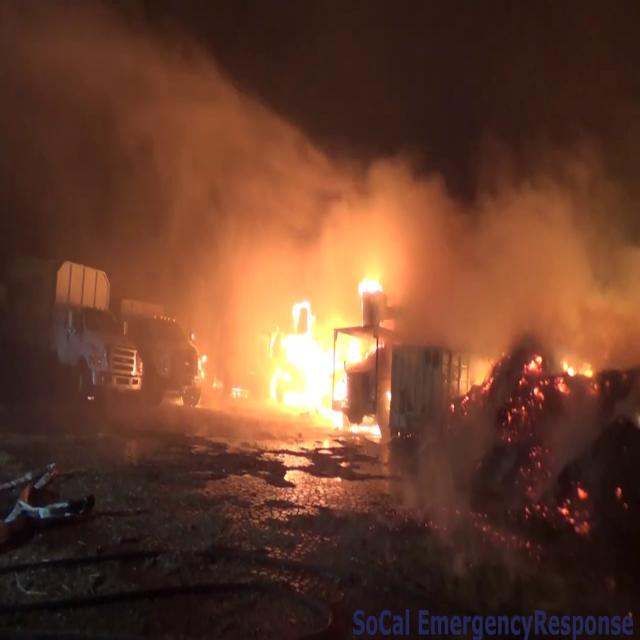Fire: (248, 256, 388, 436)
Smoke: (22, 12, 359, 352), (368, 154, 640, 389)
